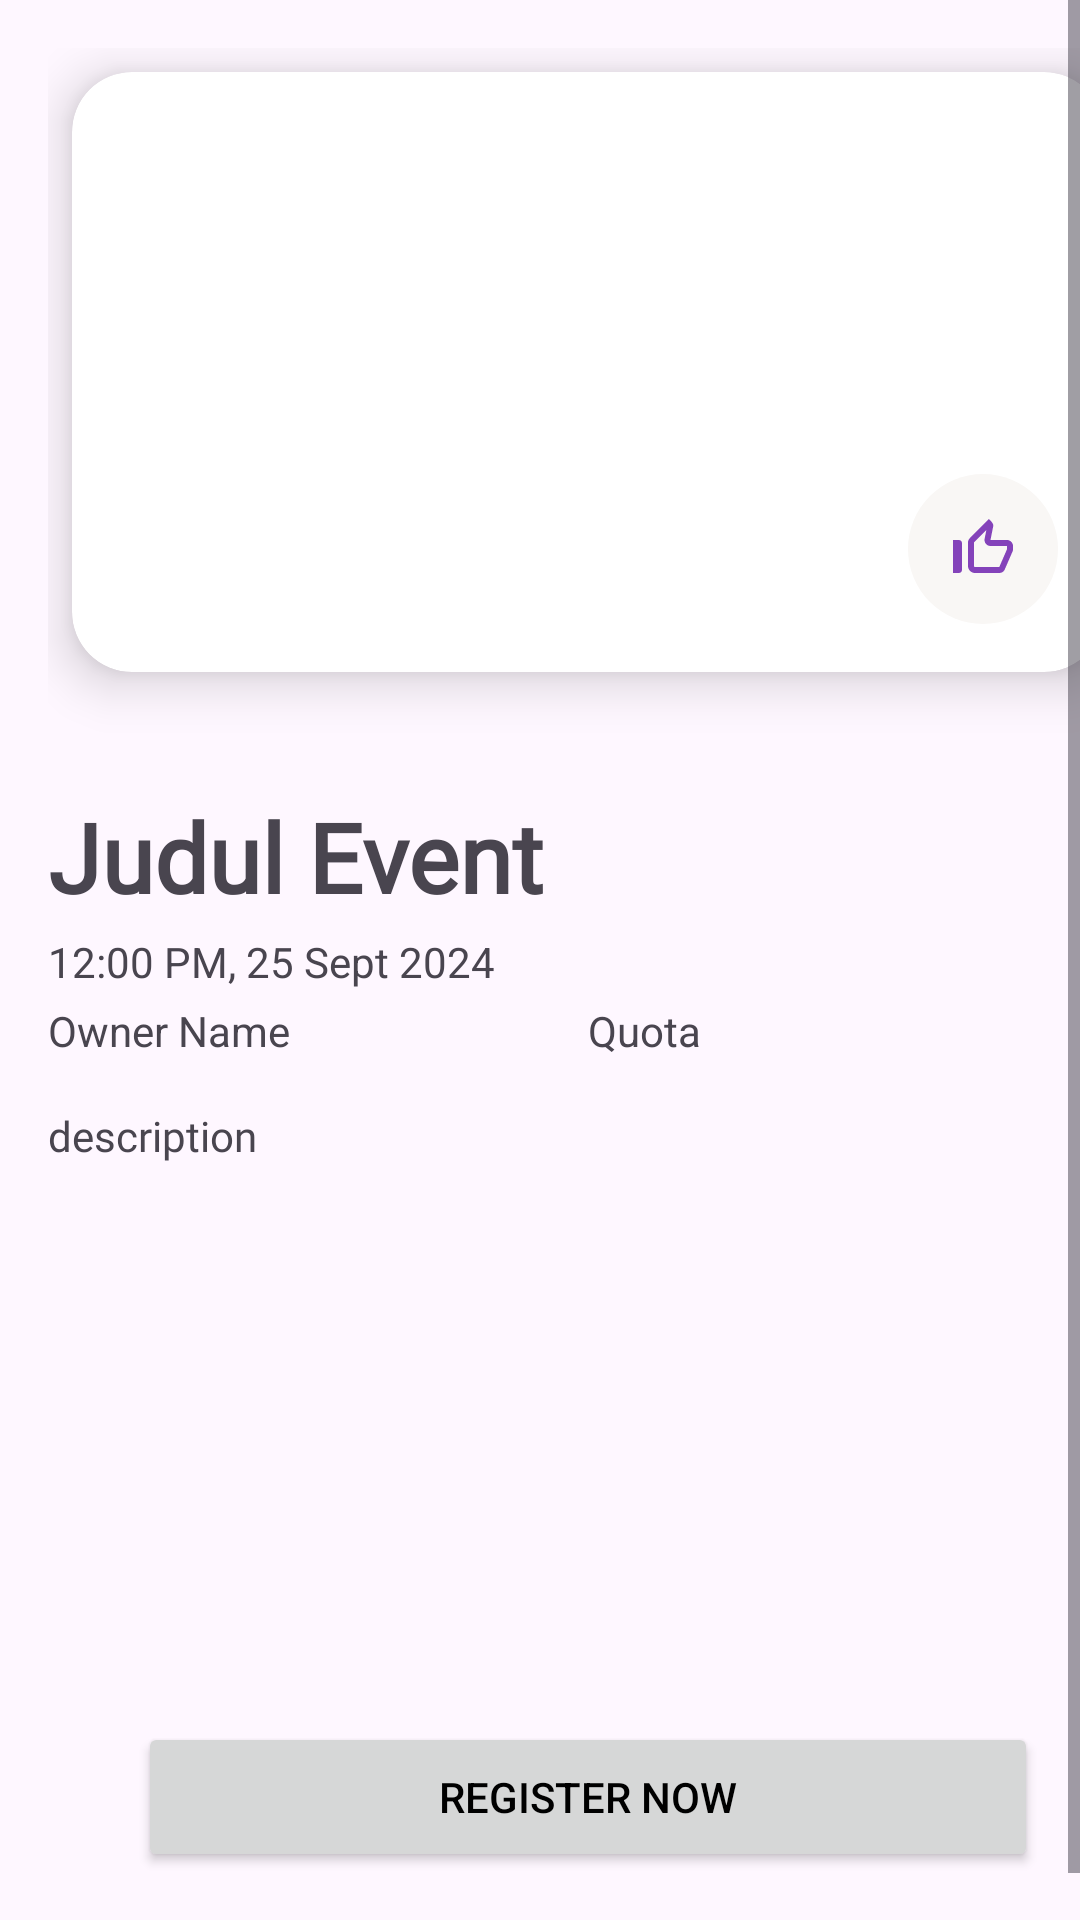

Icon click points for this 1080 × 1920 phone screenshot, format (x=x, y=y):
favorite: (x=983, y=549)
